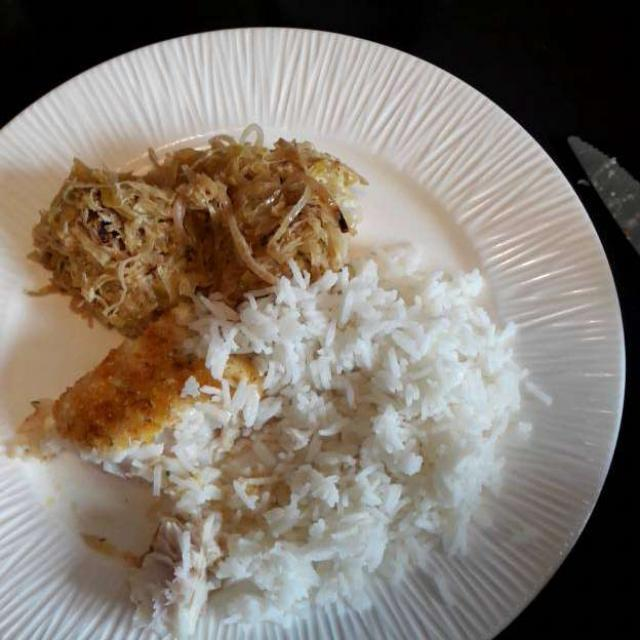rice: (122, 265, 530, 610)
sauerkraut: (24, 141, 342, 331)
